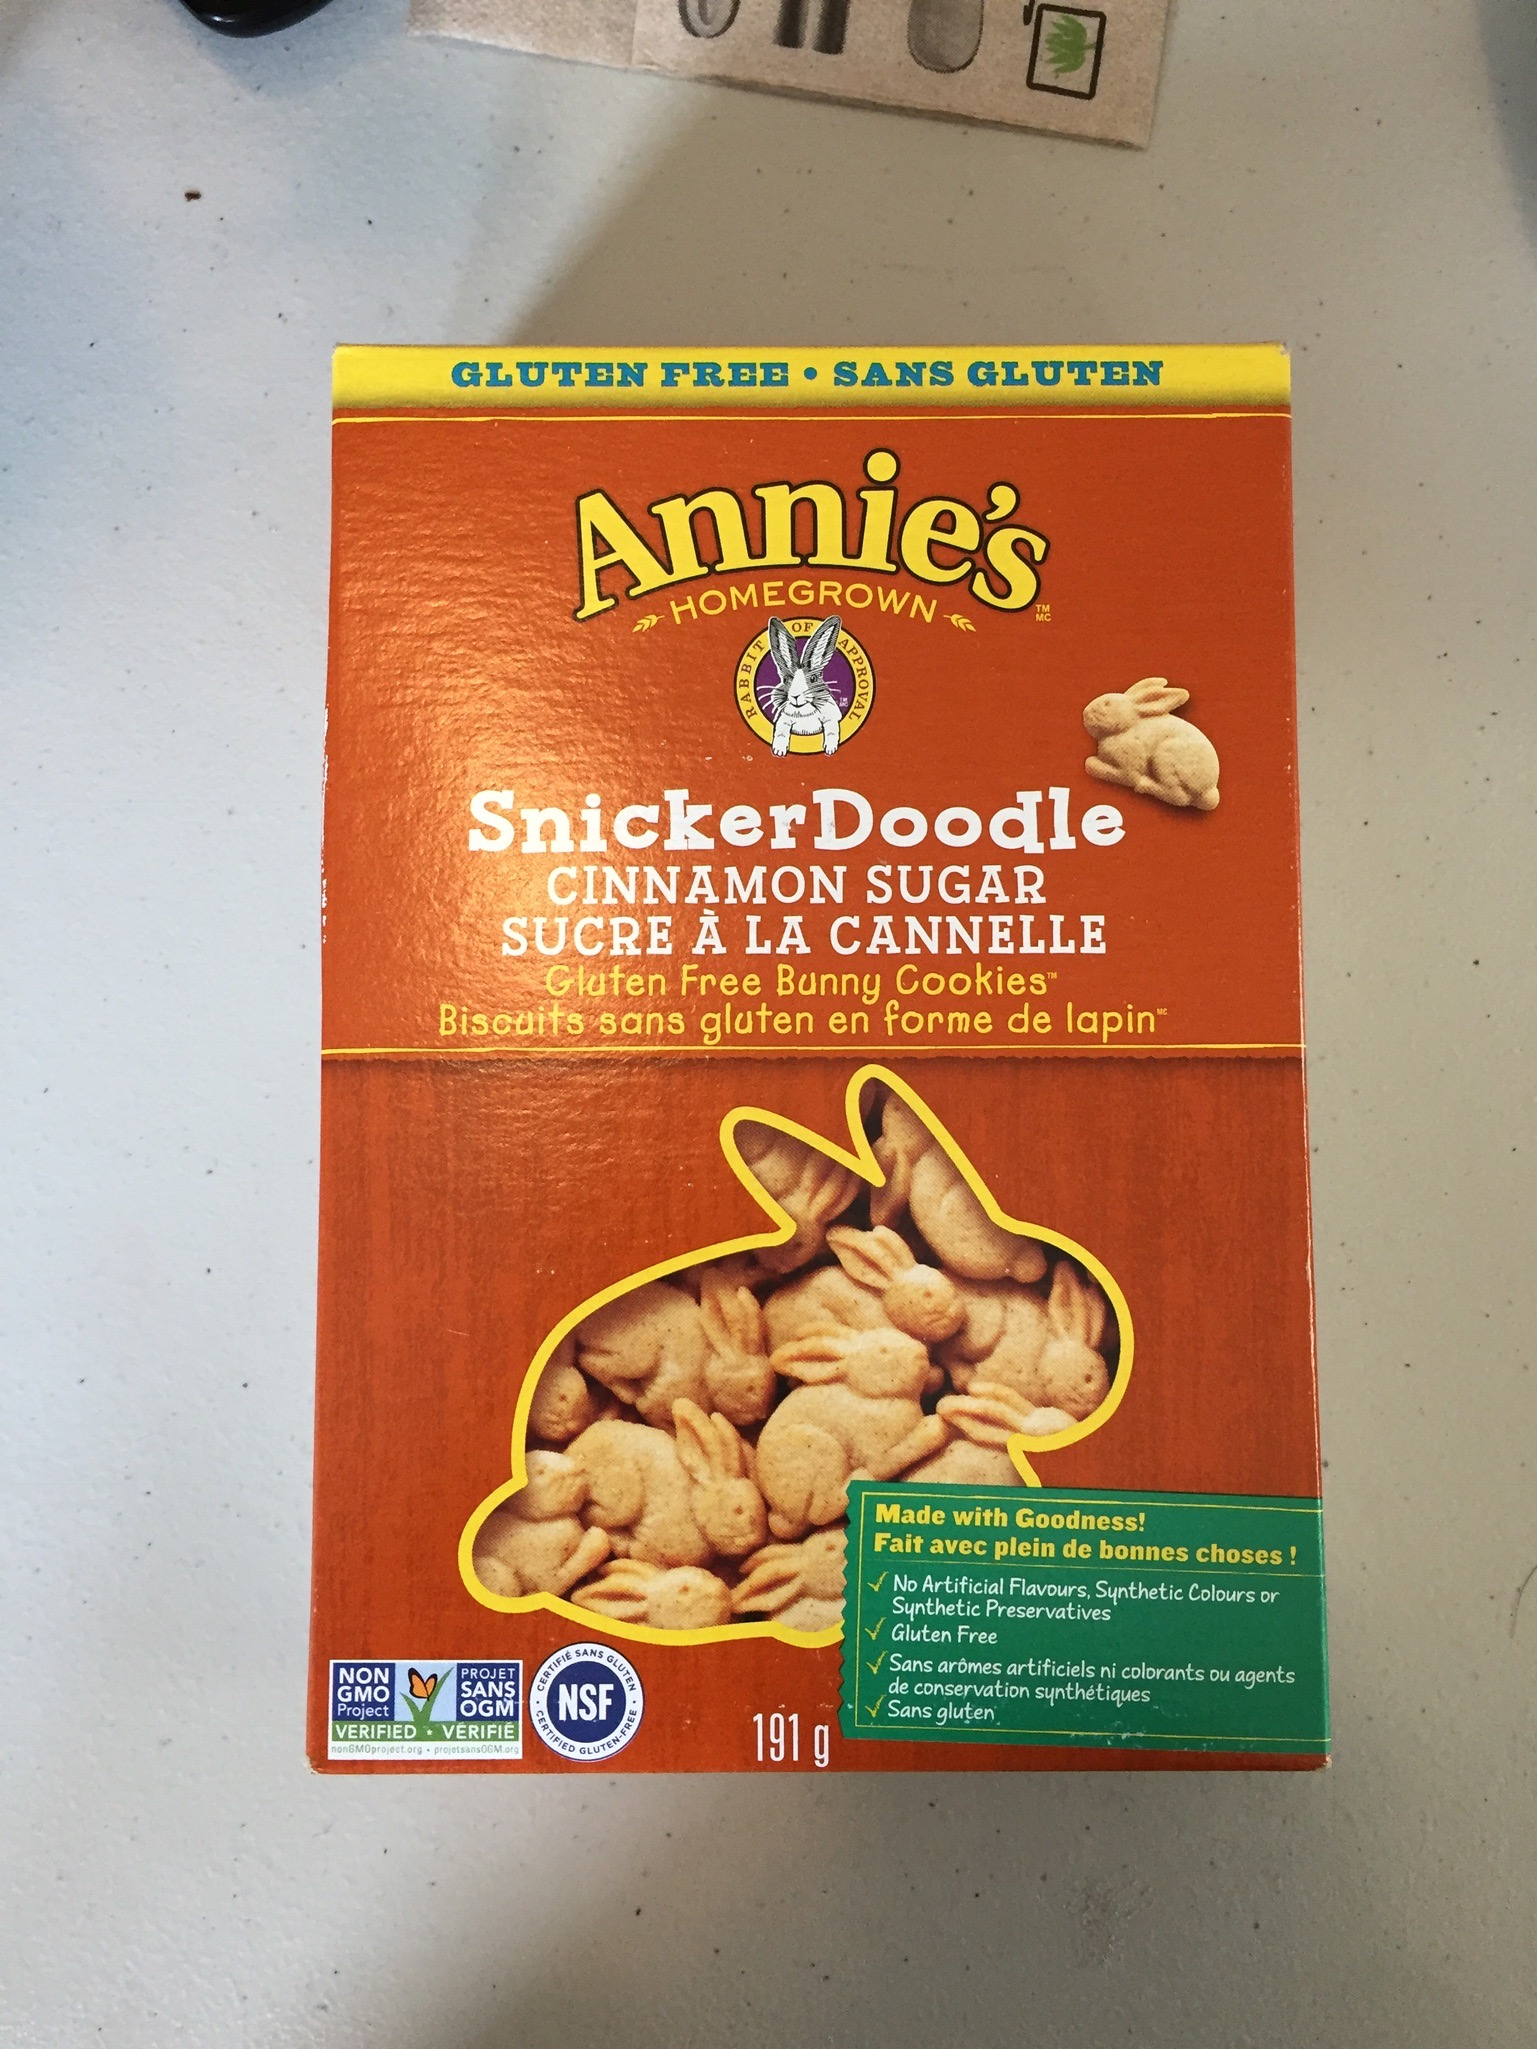annies_snickerdoodle_cinnamon_sugar: (342, 349, 1314, 1771)
